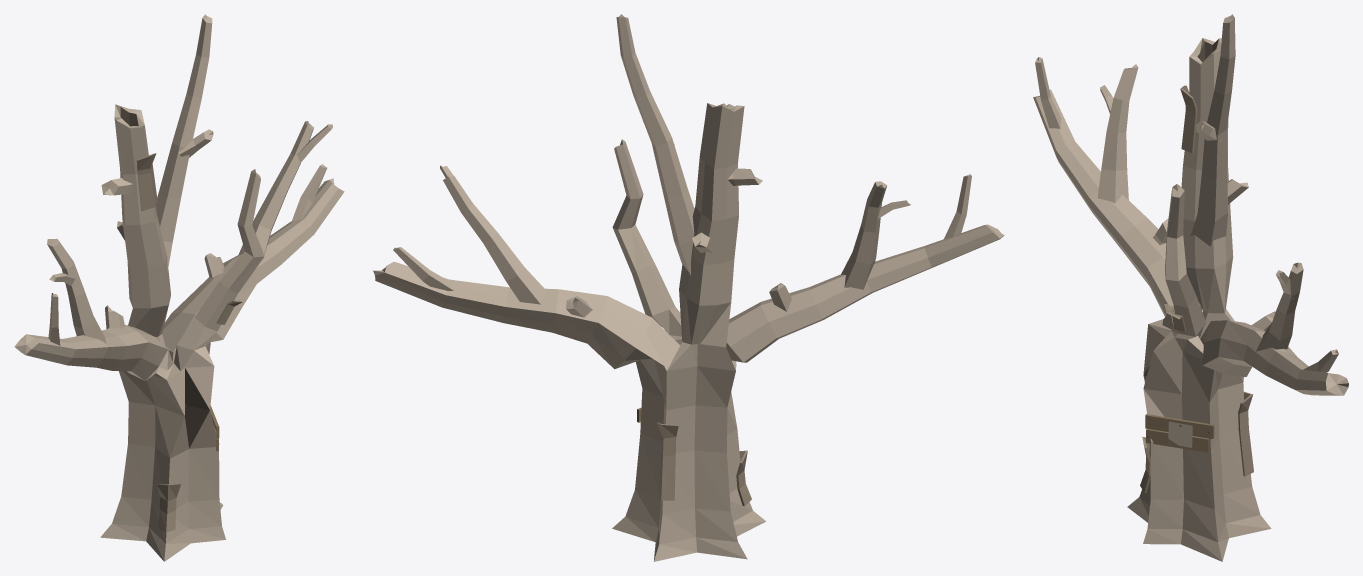
The model's file is palm_0.glb.
3 views of the same model, side by side, from view 1: azimuth 30°, elevation 25°; view 2: azimuth 150°, elevation 25°; view 3: azimuth 270°, elevation 25° (orthographic). The views are drawn at different scales.
Parts seen in each view (by area): view 1: palm_0; view 2: palm_0; view 3: palm_0.
Part boxes in pixels (x1,y1,x2,y2): palm_0: [14, 14, 344, 561]; palm_0: [373, 14, 1004, 561]; palm_0: [1033, 14, 1348, 561].
Bounding box in the file's own units: 8.18 × 8.4 × 4.45.
